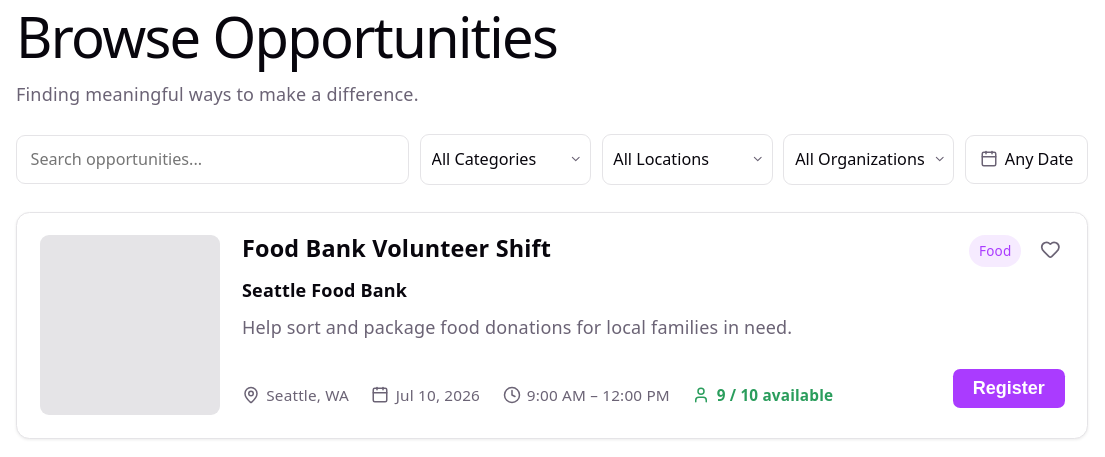
OpportunitiesPage › removes an opportunity from the list once registration succeeds
The image size is (1105, 457).
Expected: the heading "Food Bank Volunteer Shift" is shown, [242,235,551,261]
Click the button "Register": [1009, 389] box [953,369,1064,408]
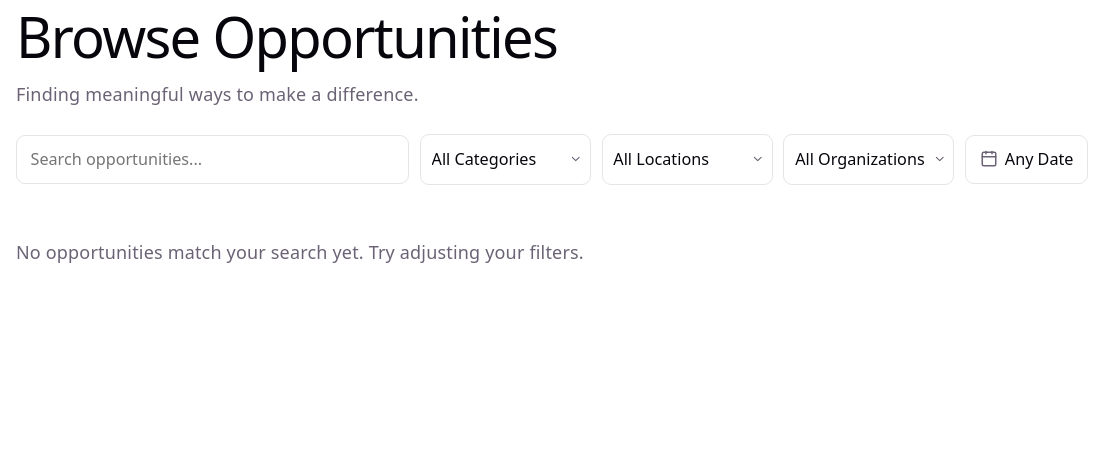
Now the heading "Food Bank Volunteer Shift" is gone
